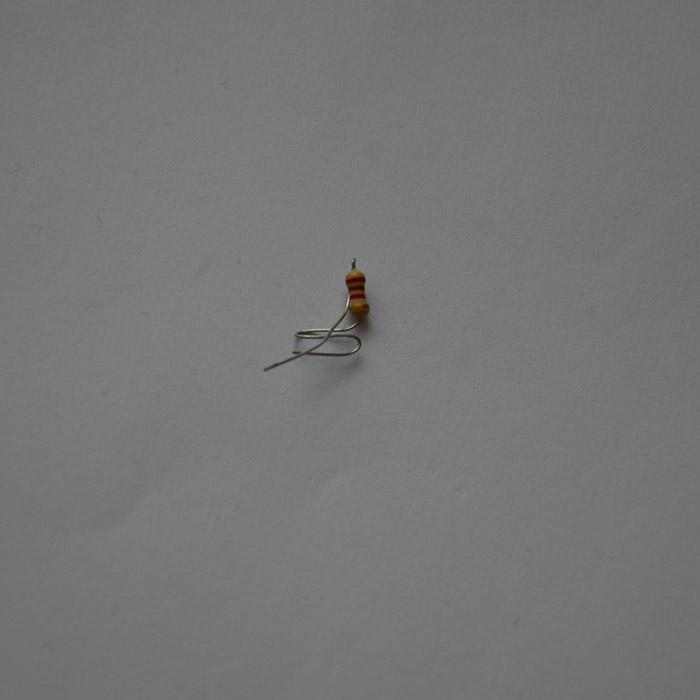resistor: (345, 260, 369, 317)
